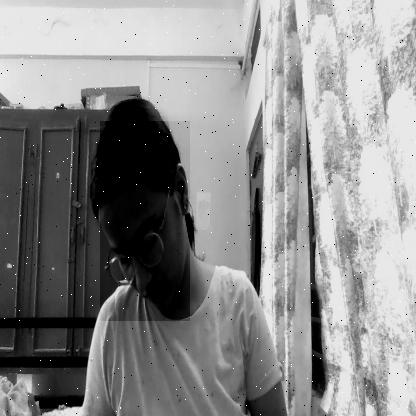Distracted: (100, 122, 190, 322)
